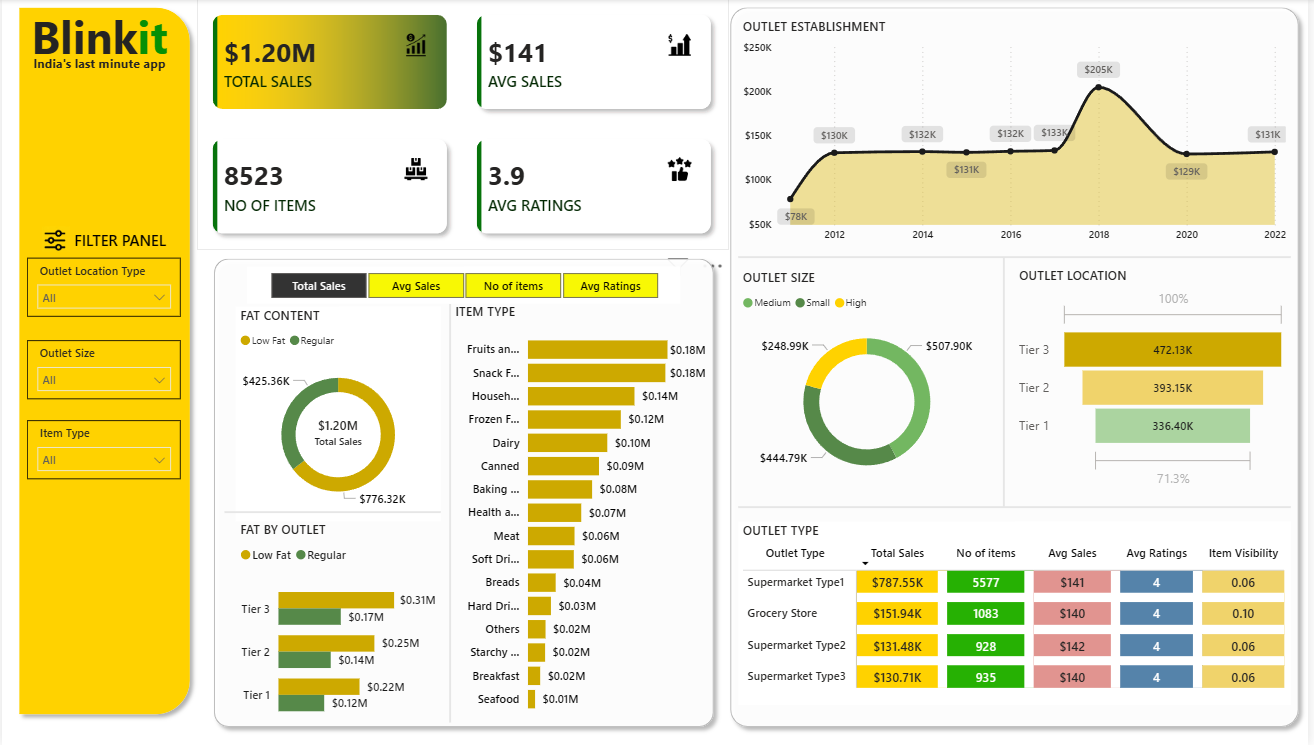

This screenshot's page, from the dashboard's own definition file:
{"tool":"powerbi","page":{"name":"Page 1","canvas":[1400,800],"ordinal":0},"visuals":[{"type":"shape","box":[9.4,0,201.1,776.1],"z":0},{"type":"textbox","box":[0,2.7,209.1,77.7],"z":1000},{"type":"textbox","box":[17.4,55,174.3,49.6],"z":2000},{"type":"cardVisual","fields":{"Data":["BlinkIT Grocery Data.Total Sales","BlinkIT Grocery Data.Avg Sales","BlinkIT Grocery Data.No of items","BlinkIT Grocery Data.Avg Ratings"]},"box":[209.1,0,569.7,269.4],"z":3000},{"type":"shape","box":[218.5,269.4,553.6,520.1],"z":4000},{"type":"donutChart","title":"FAT CONTENT","fields":{"Y":["BlinkIT Grocery Data.Total Sales"],"Category":["BlinkIT Grocery Data.Item Fat Content"]},"box":[250.7,329.8,220,230],"z":5000},{"type":"slicer","fields":{"Values":["Metrics.Metrics"]},"box":[262.7,286.9,465.1,40.2],"z":6000},{"type":"cardVisual","fields":{"Data":["BlinkIT Grocery Data.Total Sales"]},"box":[290.9,429,139.4,71],"z":7000},{"type":"clusteredBarChart","title":"FAT BY OUTLET","fields":{"Y":["BlinkIT Grocery Data.Total Sales"],"Category":["BlinkIT Grocery Data.Outlet Location Type"],"Series":["BlinkIT Grocery Data.Item Fat Content"]},"box":[250.7,559,219.8,230.6],"z":8000},{"type":"shape","box":[238.6,520.1,231.9,60.3],"z":9000},{"type":"shape","box":[446.4,327.1,68.4,449.1],"z":10000},{"type":"barChart","title":"ITEM TYPE","fields":{"Y":["BlinkIT Grocery Data.Total Sales"],"Category":["BlinkIT Grocery Data.Item Type"]},"box":[481.2,325.7,278.8,450.4],"z":11000},{"type":"shape","box":[772.1,0,627.3,789.5],"z":12000},{"type":"lineChart","title":"OUTLET  ESTABLISHMENT","fields":{"Category":["BlinkIT Grocery Data.Outlet Establishment Year"],"Y":["BlinkIT Grocery Data.Total Sales"]},"box":[789.5,20.1,592.5,249.3],"z":13000},{"type":"shape","box":[789.5,246.7,592.5,60.3],"z":14000},{"type":"donutChart","title":"OUTLET SIZE","fields":{"Y":["BlinkIT Grocery Data.Total Sales"],"Category":["BlinkIT Grocery Data.Outlet Size"]},"box":[789.5,289.5,276.1,239.9],"z":15000},{"type":"shape","box":[1052.3,277.5,44.2,268.1],"z":16000},{"type":"funnel","title":"OUTLET LOCATION","fields":{"Y":["Sum(BlinkIT Grocery Data.Sales)"],"Category":["BlinkIT Grocery Data.Outlet Location Type"]},"box":[1085.8,286.9,296.2,242.6],"z":17000},{"type":"shape","box":[789.5,514.7,592.5,60.3],"z":18000},{"type":"pivotTable","title":"OUTLET TYPE","fields":{"Rows":["BlinkIT Grocery Data.Outlet Type"],"Values":["BlinkIT Grocery Data.Total Sales","BlinkIT Grocery Data.No of items","BlinkIT Grocery Data.Avg Sales","BlinkIT Grocery Data.Avg Ratings","Avg(BlinkIT Grocery Data.Item Visibility)"]},"box":[789.5,560.3,592.5,197.1],"z":19000},{"type":"slicer","fields":{"Values":["BlinkIT Grocery Data.Outlet Location Type"]},"box":[26.8,277.5,164.9,63],"z":20000},{"type":"slicer","fields":{"Values":["BlinkIT Grocery Data.Outlet Size"]},"box":[26.8,366,164.9,63],"z":21000},{"type":"slicer","fields":{"Values":["BlinkIT Grocery Data.Item Type"]},"box":[26.8,451.7,164.9,63],"z":22000},{"type":"textbox","box":[72.4,242.6,178.3,44.2],"z":23000},{"type":"image","box":[42.9,227.9,29.5,59],"z":24000}]}

Visuals, with their boxes in screenshot pixels (x1, y1, x2, y2), scaled from the page's 1400x800 canvas onto the 1314x745 screenshot:
shape: x1=9, y1=0, x2=198, y2=723
textbox: x1=0, y1=3, x2=196, y2=75
textbox: x1=16, y1=51, x2=180, y2=97
cardVisual - BlinkIT Grocery Data.Total Sales x BlinkIT Grocery Data.Avg Sales: x1=196, y1=0, x2=731, y2=251
shape: x1=205, y1=251, x2=725, y2=735
"FAT CONTENT" donutChart: x1=235, y1=307, x2=442, y2=521
slicer - Metrics.Metrics: x1=247, y1=267, x2=683, y2=305
cardVisual - BlinkIT Grocery Data.Total Sales: x1=273, y1=400, x2=404, y2=466
"FAT BY OUTLET" clusteredBarChart: x1=235, y1=521, x2=442, y2=735
shape: x1=224, y1=484, x2=442, y2=540
shape: x1=419, y1=305, x2=483, y2=723
"ITEM TYPE" barChart: x1=452, y1=303, x2=713, y2=723
shape: x1=725, y1=0, x2=1313, y2=735
"OUTLET  ESTABLISHMENT" lineChart: x1=741, y1=19, x2=1297, y2=251
shape: x1=741, y1=230, x2=1297, y2=286
"OUTLET SIZE" donutChart: x1=741, y1=270, x2=1000, y2=493
shape: x1=988, y1=258, x2=1029, y2=508
"OUTLET LOCATION" funnel: x1=1019, y1=267, x2=1297, y2=493
shape: x1=741, y1=479, x2=1297, y2=535
"OUTLET TYPE" pivotTable: x1=741, y1=522, x2=1297, y2=705
slicer - BlinkIT Grocery Data.Outlet Location Type: x1=25, y1=258, x2=180, y2=317
slicer - BlinkIT Grocery Data.Outlet Size: x1=25, y1=341, x2=180, y2=400
slicer - BlinkIT Grocery Data.Item Type: x1=25, y1=421, x2=180, y2=479
textbox: x1=68, y1=226, x2=235, y2=267
image: x1=40, y1=212, x2=68, y2=267
